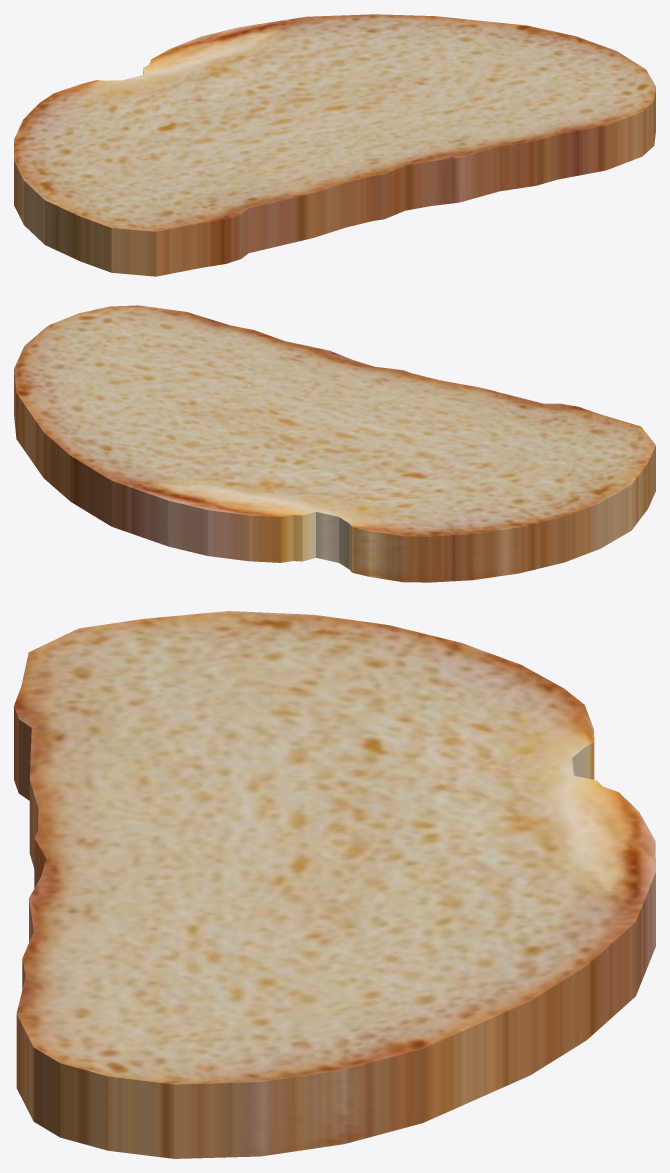
The model's file is nx_fetta_pane.glb.
3 views of the same model, one above another, from view 1: azimuth 30°, elevation 25°; view 2: azimuth 150°, elevation 25°; view 3: azimuth 270°, elevation 25° (orthographic). The views are drawn at different scales.
Visible parts, largest first — view 1: Plane.009; view 2: Plane.009; view 3: Plane.009.
Boxes of the visible parts, bbox=[...] form: Plane.009: bbox=[14, 14, 655, 276]; Plane.009: bbox=[14, 305, 655, 582]; Plane.009: bbox=[14, 611, 655, 1158].
Bounding box in the file's own units: 0.11 × 0.00805 × 0.063.
1 material, 1 textured.
